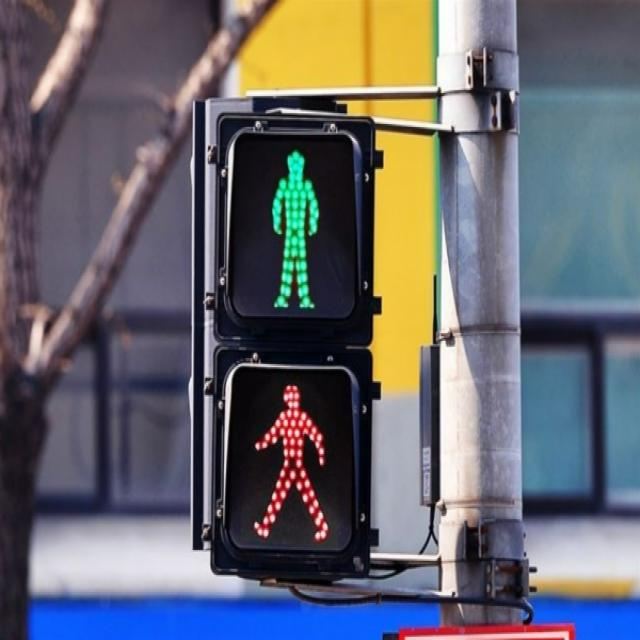Go: (172, 110, 382, 356)
Not go: (207, 343, 370, 592)
